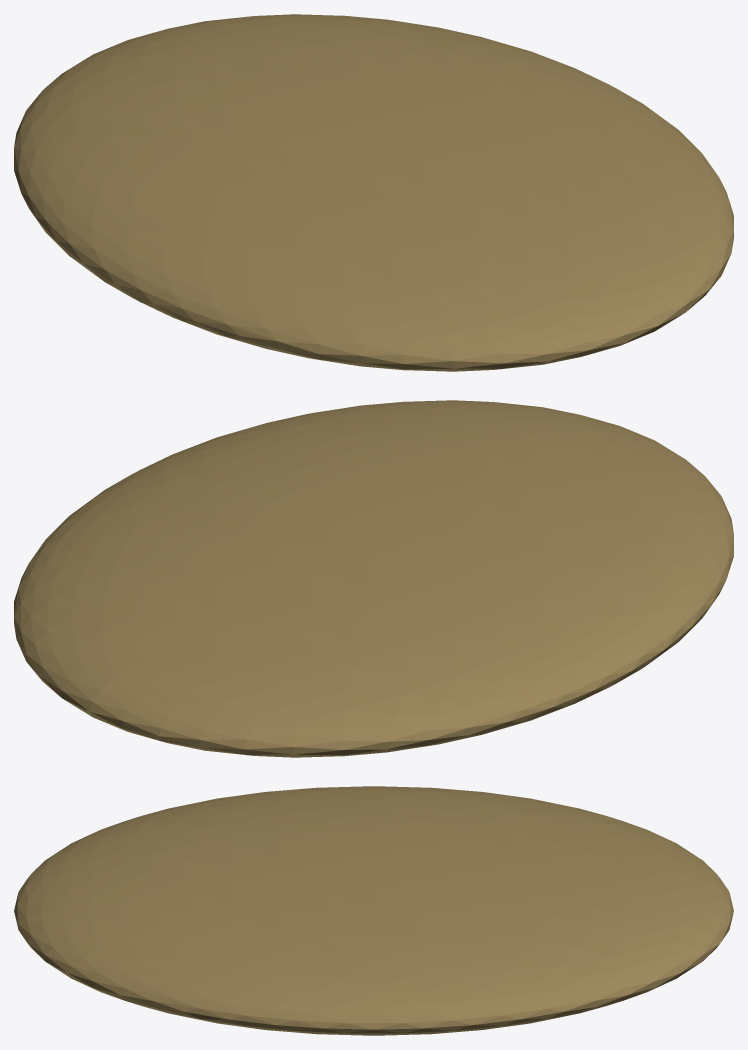
File: belly_patch.obj
3 renders of one model, top to bottom at view 1: azimuth 30°, elevation 25°; view 2: azimuth 150°, elevation 25°; view 3: azimuth 270°, elevation 25°, orthographic. The views are drawn at different scales.
Bounding box in the file's own units: 0.156 × 0.024 × 0.2.
